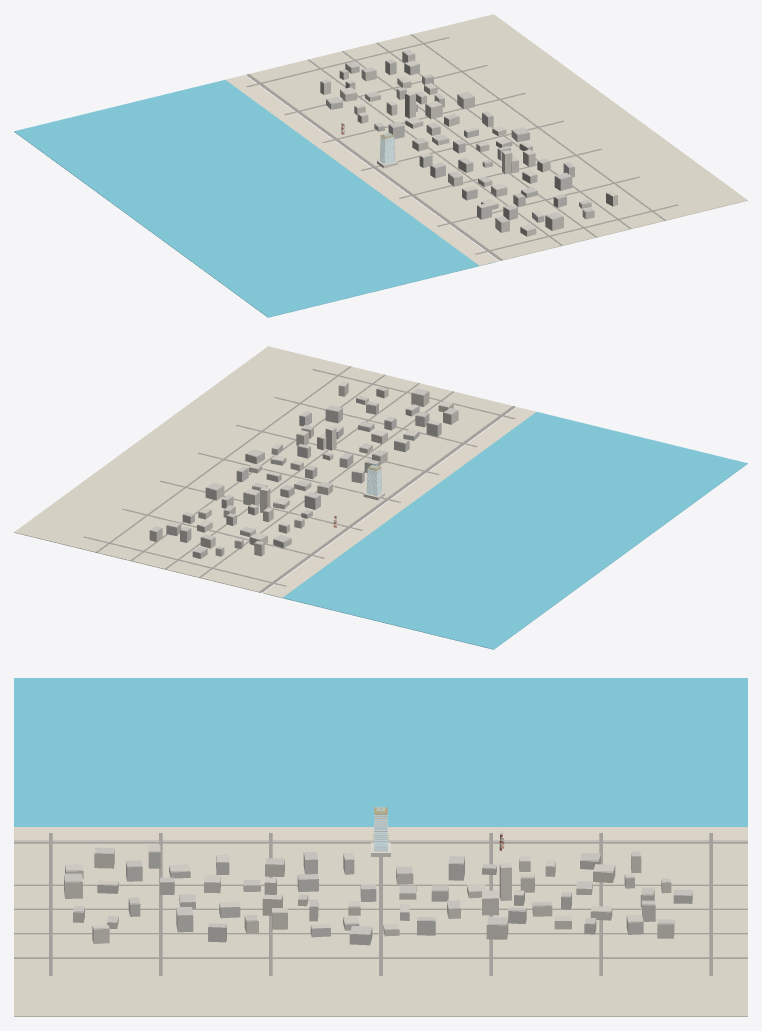
Rendered from plugin-showroom-ashira.glb.
3 views of the same model, one above another, from view 1: azimuth 30°, elevation 25°; view 2: azimuth 150°, elevation 25°; view 3: azimuth 270°, elevation 25° (orthographic). The views are drawn at different scales.
Parts seen in each view (by area): view 1: scene; view 2: scene; view 3: scene.
Boxes of the visible parts, x1=… form: scene: x1=14, y1=14, x2=747, y2=317; scene: x1=14, y1=346, x2=747, y2=649; scene: x1=14, y1=678, x2=747, y2=1016.
Bounding box in the file's own units: 1090 × 67.6 × 1000.
